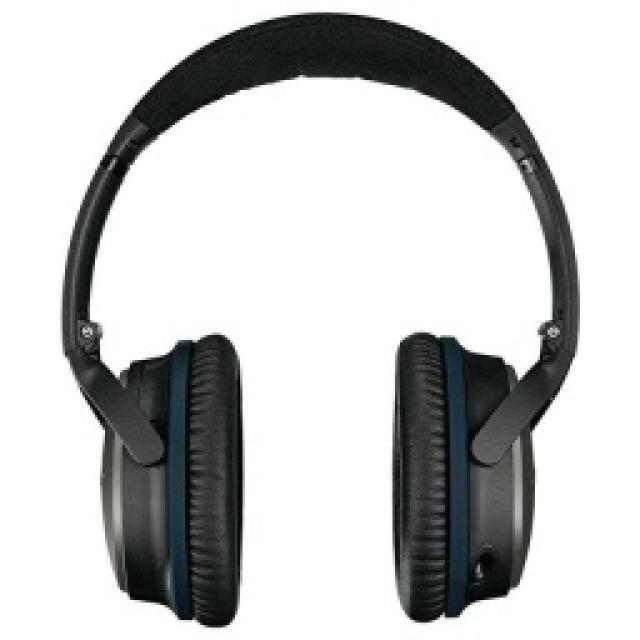headphones: (58, 10, 580, 625)
